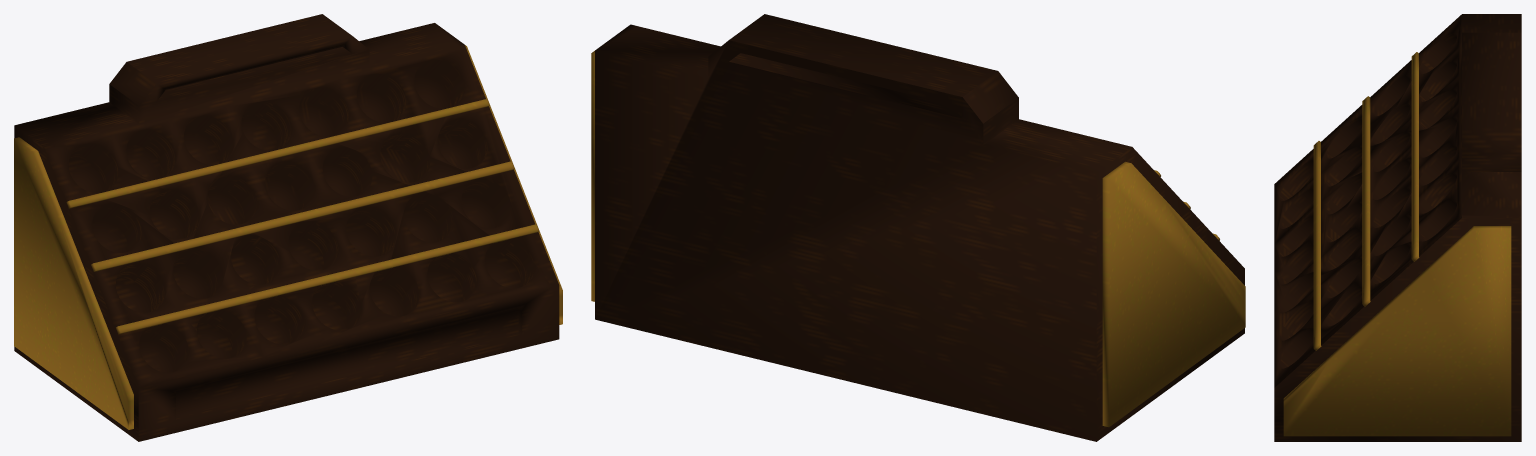
The model's file is Stampholder 3.glb.
3 views of the same model, side by side, from view 1: azimuth 30°, elevation 25°; view 2: azimuth 150°, elevation 25°; view 3: azimuth 270°, elevation 25° (orthographic). The views are drawn at different scales.
Parts seen in each view (by area): view 1: Stampholder, Cube.002, Cube.001, Cube.003; view 2: Stampholder, Cube.002, Cube.003; view 3: Stampholder, Cube.003, Cube.001.
Boxes of the visible parts, bbox=[...] form: Stampholder: bbox=[14, 14, 559, 441]; Cube.002: bbox=[14, 137, 133, 429]; Cube.001: bbox=[66, 99, 539, 334]; Cube.003: bbox=[465, 45, 562, 324]; Stampholder: bbox=[595, 14, 1244, 441]; Cube.002: bbox=[1102, 161, 1245, 427]; Cube.003: bbox=[591, 51, 594, 301]; Stampholder: bbox=[1274, 14, 1521, 441]; Cube.003: bbox=[1283, 226, 1511, 436]; Cube.001: bbox=[1313, 52, 1419, 350].
Bounding box in the file's own units: 37.32 × 21.49 × 18.52.
Materials: 2 (2 with a texture image).
